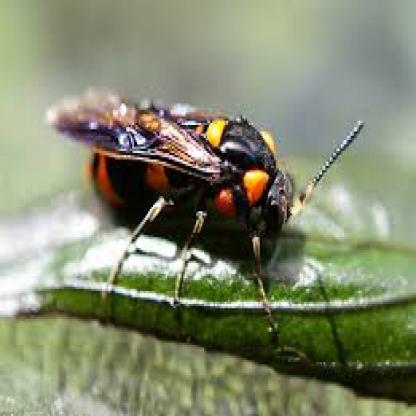sawfly: (42, 81, 364, 352)
